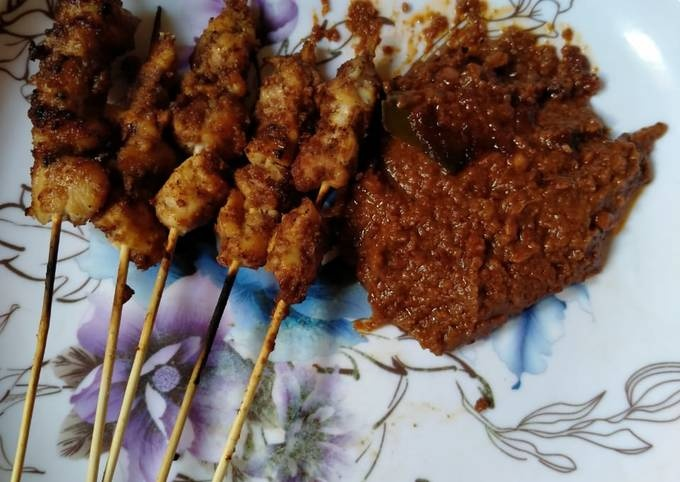sate_madura: (17, 3, 385, 482)
